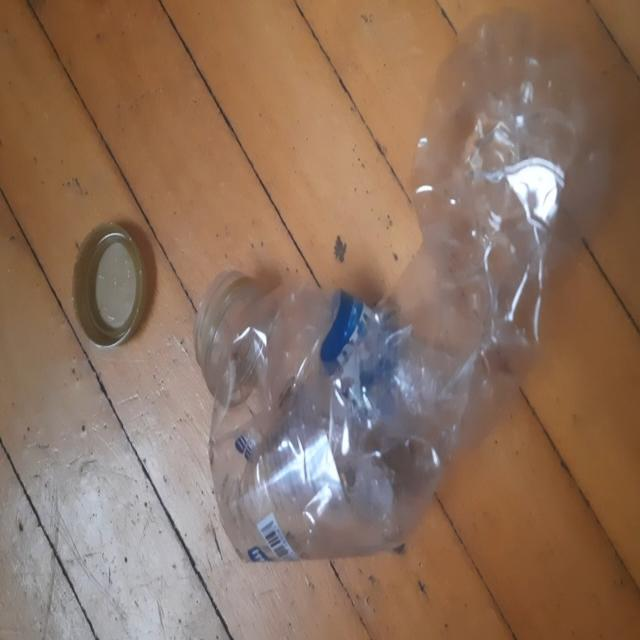Plastic: (193, 0, 631, 566), (72, 225, 155, 353)
